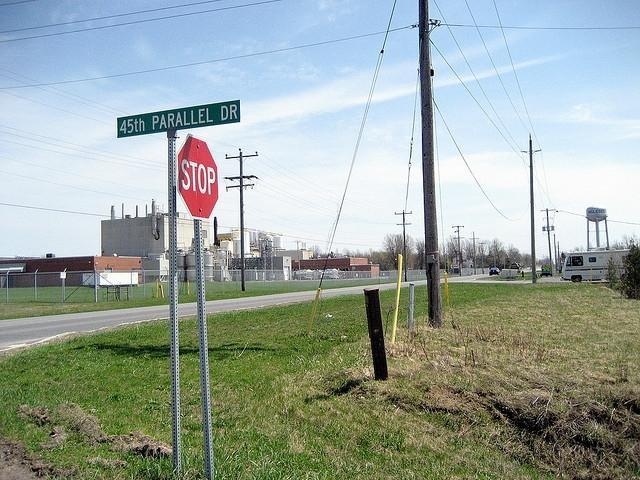car: (488, 268, 501, 276), (526, 268, 530, 270)
truck: (562, 248, 630, 282)
